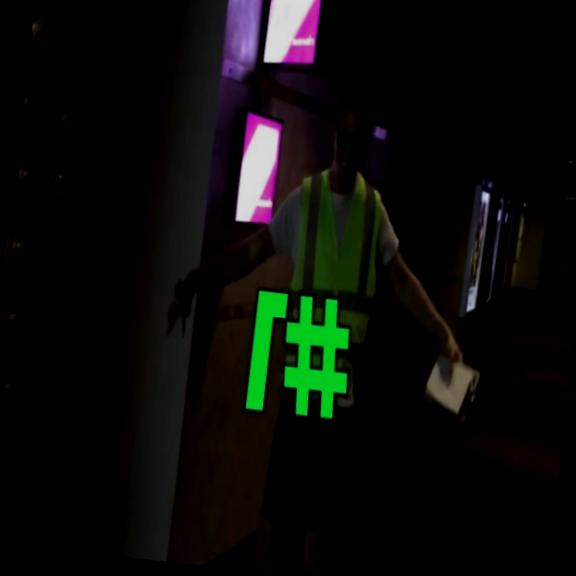safety_vest: (278, 158, 389, 381)
